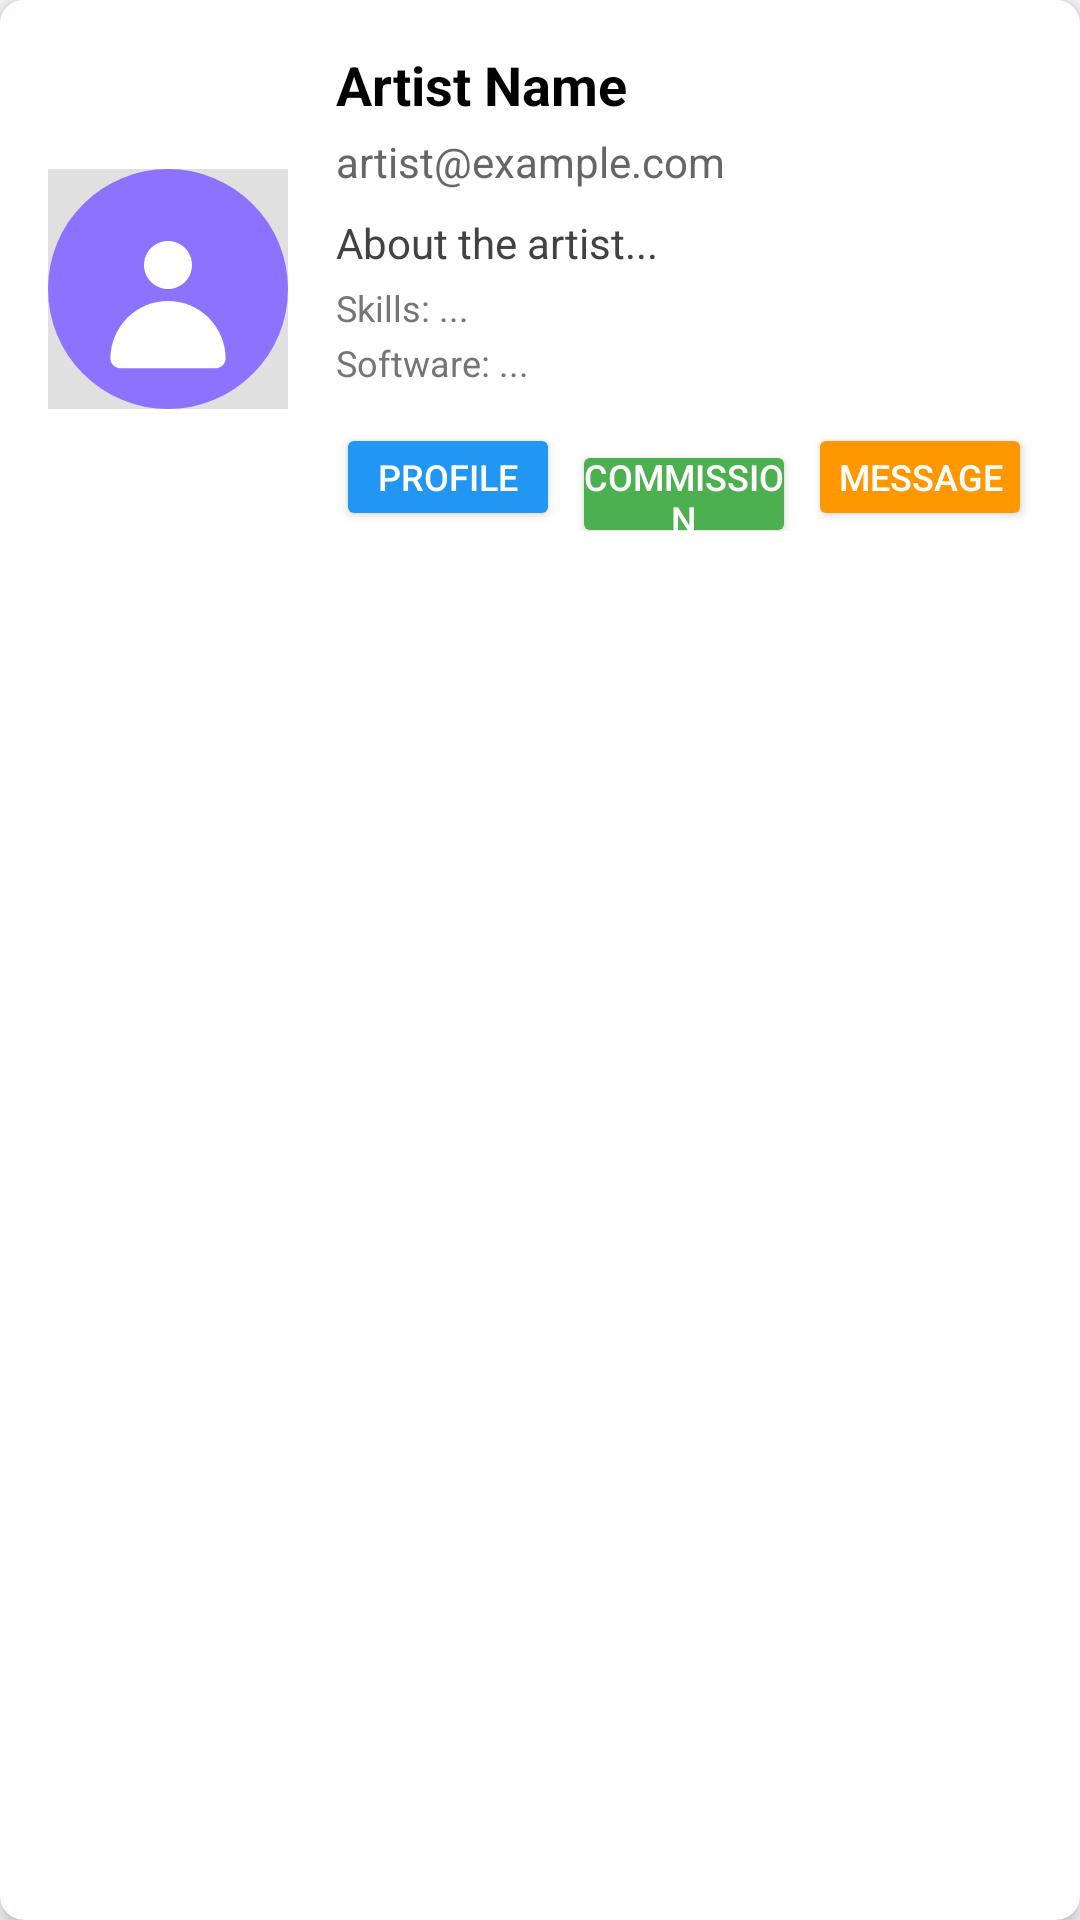

Icon bounding boxes for this 1080 x 1920 phone screenshot, format (x1, y1, x2, y2):
defaultavatar: (48, 169, 288, 409)
